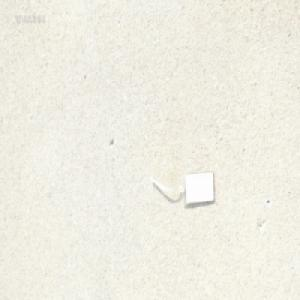LuggageTag: (147, 169, 214, 208)
